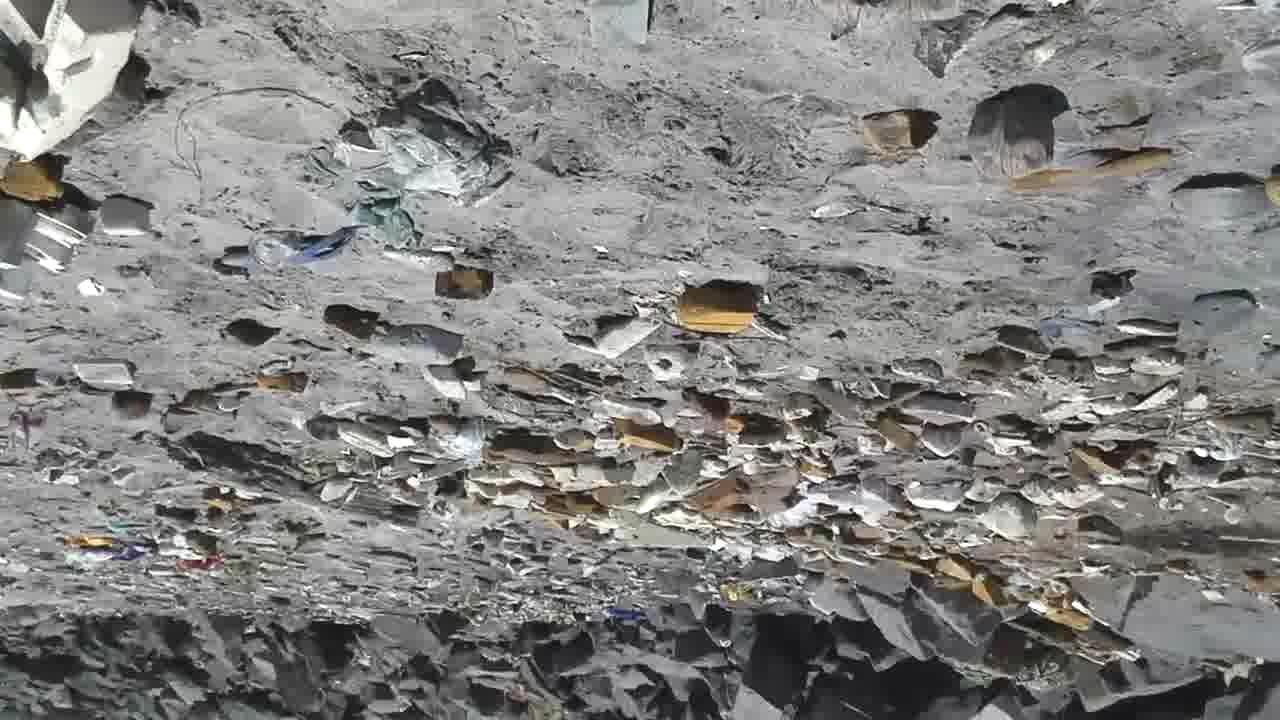large collection of objects: (373, 324, 463, 362), (974, 493, 1032, 544), (662, 450, 700, 493), (1017, 478, 1053, 509)
obj: (303, 354, 991, 558), (180, 432, 424, 532), (960, 318, 1186, 420), (0, 151, 152, 301), (294, 108, 515, 208), (0, 1, 135, 153), (968, 94, 1050, 180), (53, 527, 225, 568), (1011, 153, 1177, 187), (570, 306, 662, 362), (678, 278, 762, 330), (351, 194, 422, 243), (1184, 290, 1254, 334), (422, 362, 492, 401), (244, 224, 305, 266), (286, 226, 350, 262), (434, 264, 492, 300), (612, 417, 675, 450), (1050, 472, 1106, 509), (1039, 318, 1106, 340), (112, 391, 150, 422), (256, 372, 312, 393)
sand/background: (0, 526, 1280, 719)
